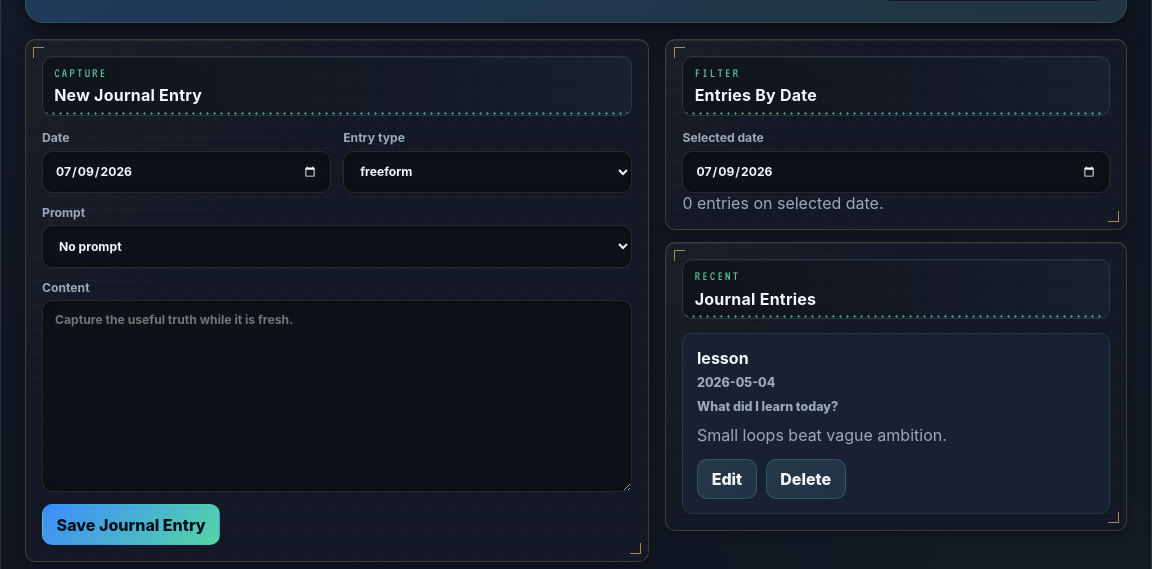
Journal › edits an existing entry
(page scrolled)
Expected: the text "Small loops beat vague ambition." is shown, [697, 425, 947, 445]
Click the button "Edit": (727, 479) [697, 459, 757, 499]
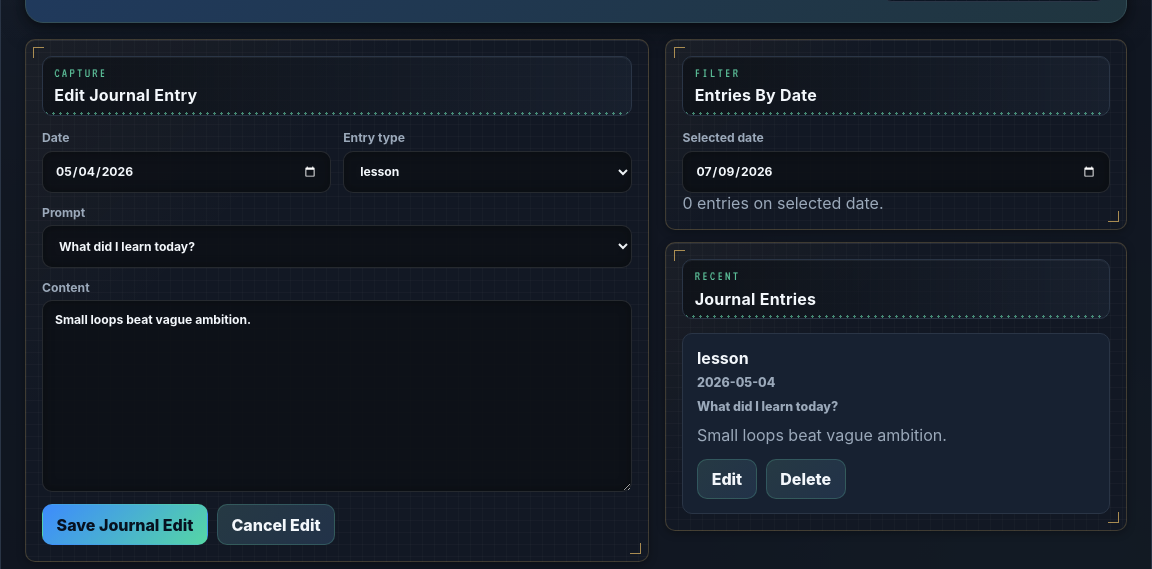
Replace the text in the text box labelled "Content" with "Edited journal lesson.": (337, 396) [42, 300, 632, 492]
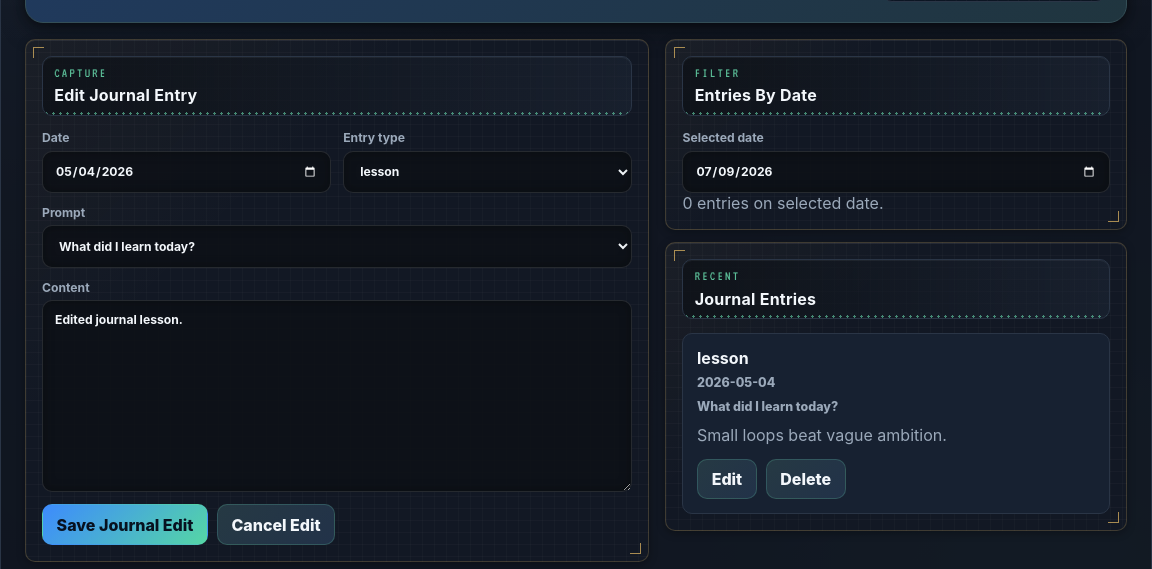
Click the button "Save Journal Edit": (125, 525) [42, 504, 208, 545]
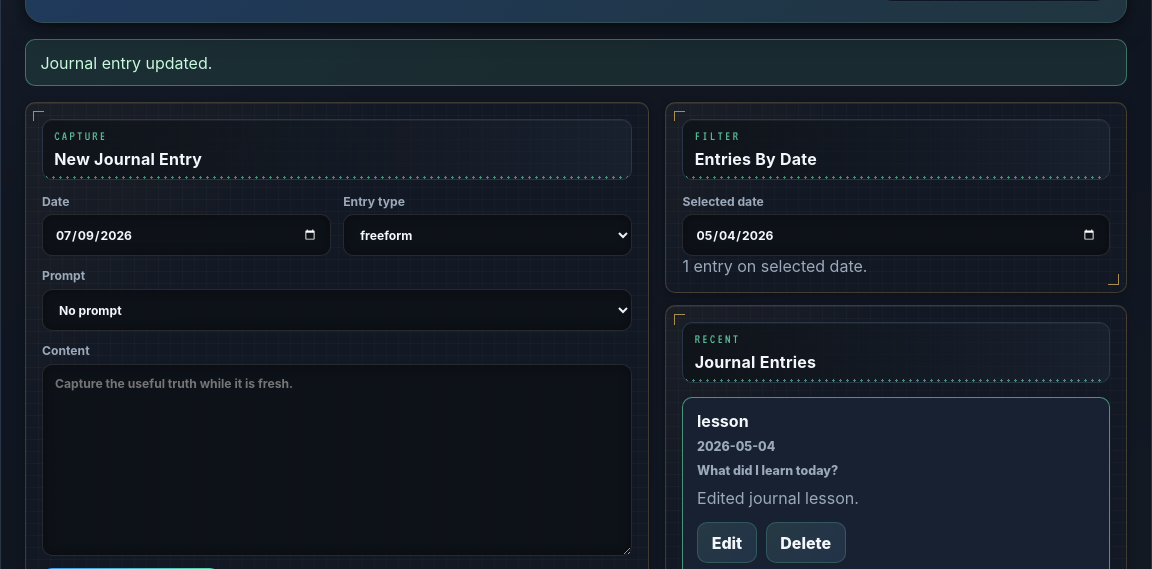
Now the text "Journal entry updated." is shown, box [25, 39, 1127, 86]
Now the text "Edited journal lesson." is shown, box [697, 488, 859, 508]
Now the text "Small loops beat vague ambition." is gone
